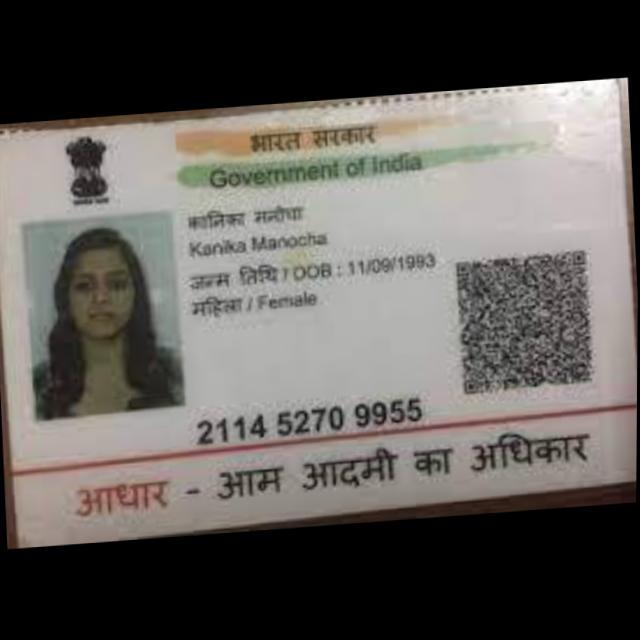aadhaar: (0, 80, 639, 549)
